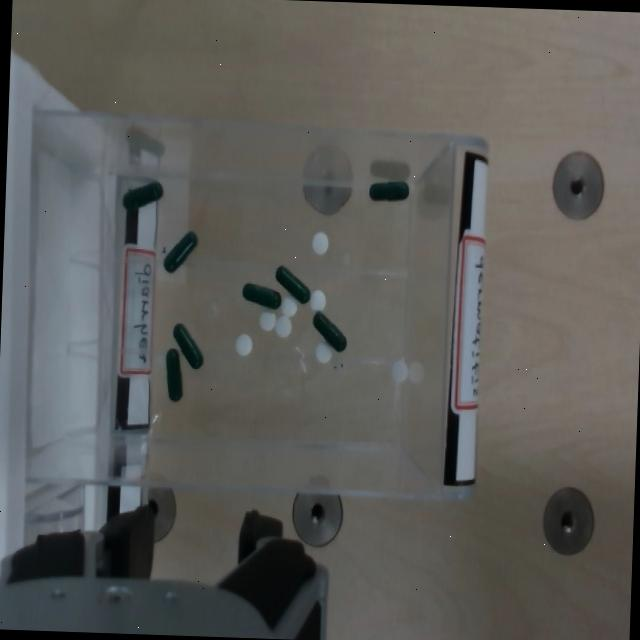ganakan_tab: (233, 330, 253, 358), (309, 229, 328, 255), (307, 286, 326, 312), (389, 357, 407, 382), (273, 313, 291, 337), (314, 339, 332, 362), (258, 306, 275, 330), (279, 293, 296, 316)
monodoxy_cap: (170, 320, 204, 368), (310, 308, 347, 352), (162, 227, 197, 273), (272, 261, 310, 303), (120, 178, 162, 211), (163, 230, 197, 270), (313, 310, 346, 350), (173, 322, 202, 366), (275, 264, 309, 301), (122, 179, 162, 210), (239, 278, 280, 308), (162, 345, 183, 399), (367, 177, 409, 203), (241, 281, 281, 307), (165, 347, 181, 399), (368, 179, 408, 199)
